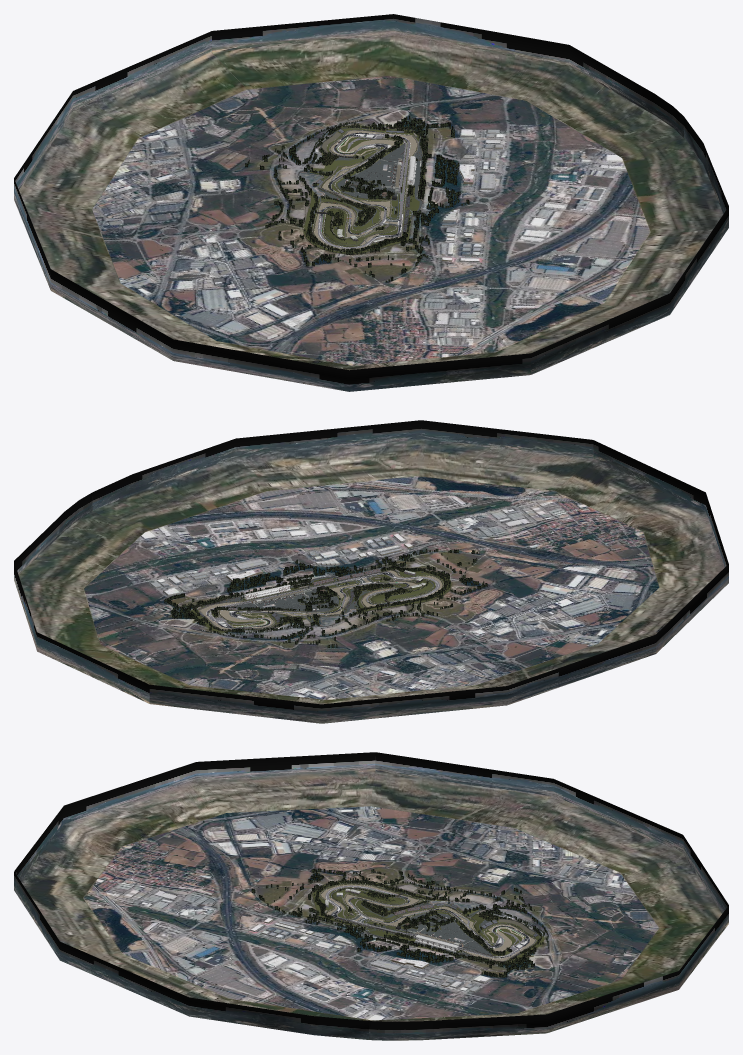
Rendered from barcelona.glb.
The picture shows the model from 3 angles, top to bottom: view 1: azimuth 30°, elevation 25°; view 2: azimuth 150°, elevation 25°; view 3: azimuth 270°, elevation 25°; orthographic projection. The views are drawn at different scales.
Visible parts, largest first — view 1: barcelona; view 2: barcelona; view 3: barcelona.
Part boxes in pixels (x1,y1,x2,y2): barcelona: (14,14,728,391); barcelona: (14,420,728,723); barcelona: (14,752,728,1040).
Size of what is drawn, in the model's own units: 3723 by 188 by 4145.
Materials: 117 (117 with a texture image).
